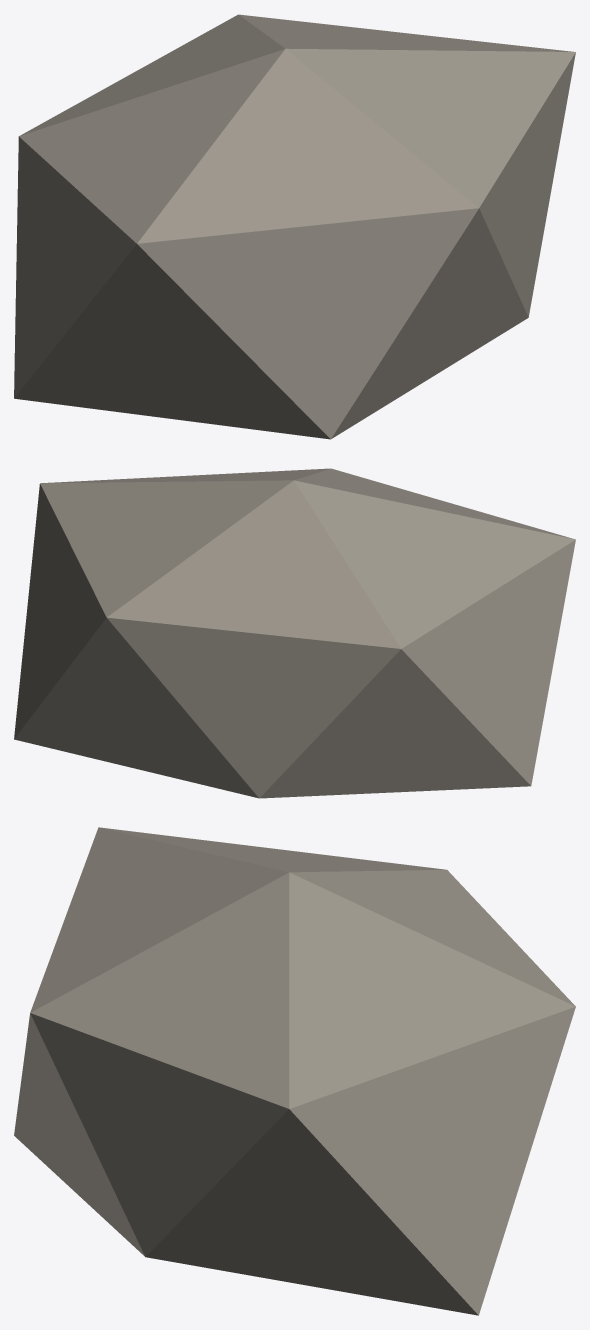
File: HS_LP_Rock_Small_01.fbx
The picture shows the model from 3 angles, top to bottom: view 1: azimuth 30°, elevation 25°; view 2: azimuth 150°, elevation 25°; view 3: azimuth 270°, elevation 25°; orthographic projection. The views are drawn at different scales.
Parts seen in each view (by area): view 1: HS_LP_Rock_Small_01; view 2: HS_LP_Rock_Small_01; view 3: HS_LP_Rock_Small_01.
Boxes of the visible parts, x1,y1,x2,y2 form: HS_LP_Rock_Small_01: [14, 14, 575, 439]; HS_LP_Rock_Small_01: [14, 468, 575, 798]; HS_LP_Rock_Small_01: [14, 827, 575, 1315].
Size of the model in its own units: 52.35 by 31.14 by 41.34.
